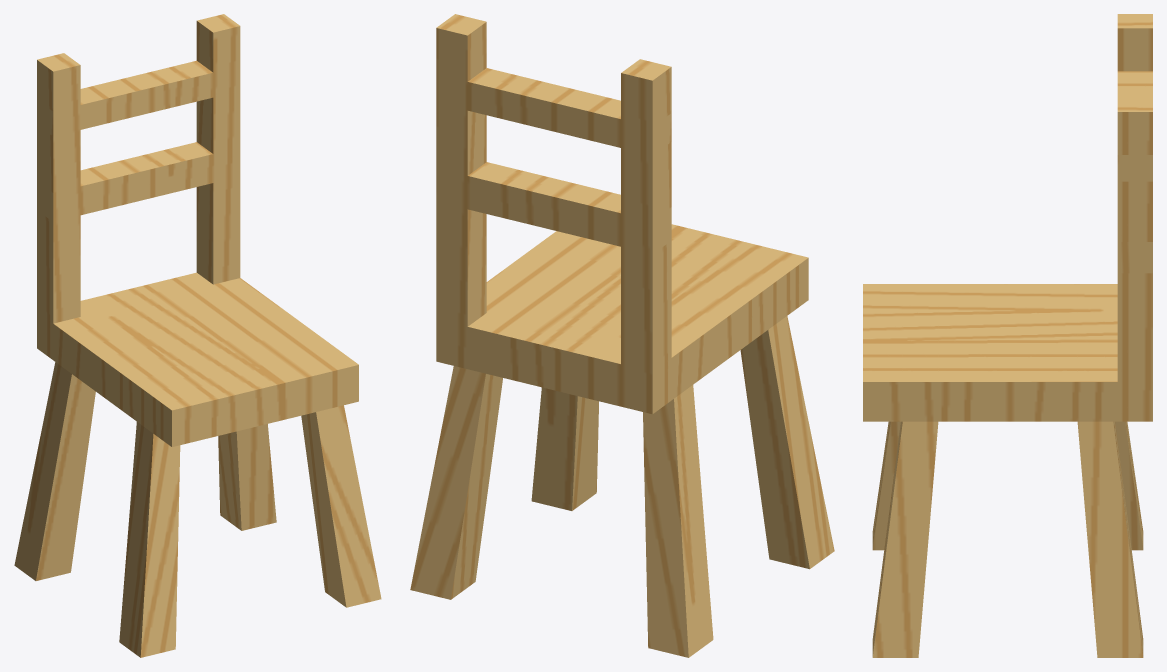
Rendered from Y2BoxChair.fbx.
3 renders of one model, left to right at view 1: azimuth 30°, elevation 25°; view 2: azimuth 150°, elevation 25°; view 3: azimuth 270°, elevation 25°, orthographic. The views are drawn at different scales.
Visible parts, largest first — view 1: kiisu2; view 2: kiisu2; view 3: kiisu2.
Part boxes in pixels (box(x1,y1,x2,y2)): kiisu2: box(14, 14, 381, 657); kiisu2: box(410, 14, 834, 657); kiisu2: box(863, 14, 1152, 657).
Size of the model in its own units: 1.03 by 2.03 by 1.
1 material, 1 textured.
